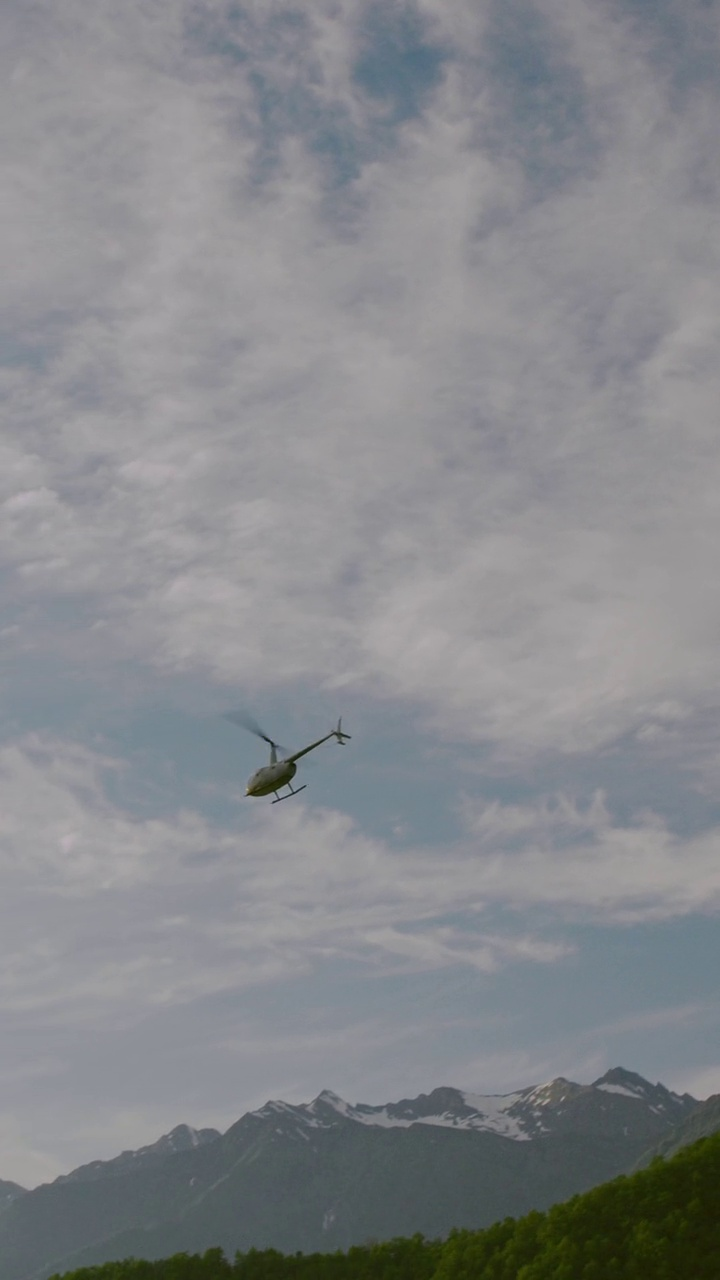heli: (240, 721, 351, 806)
